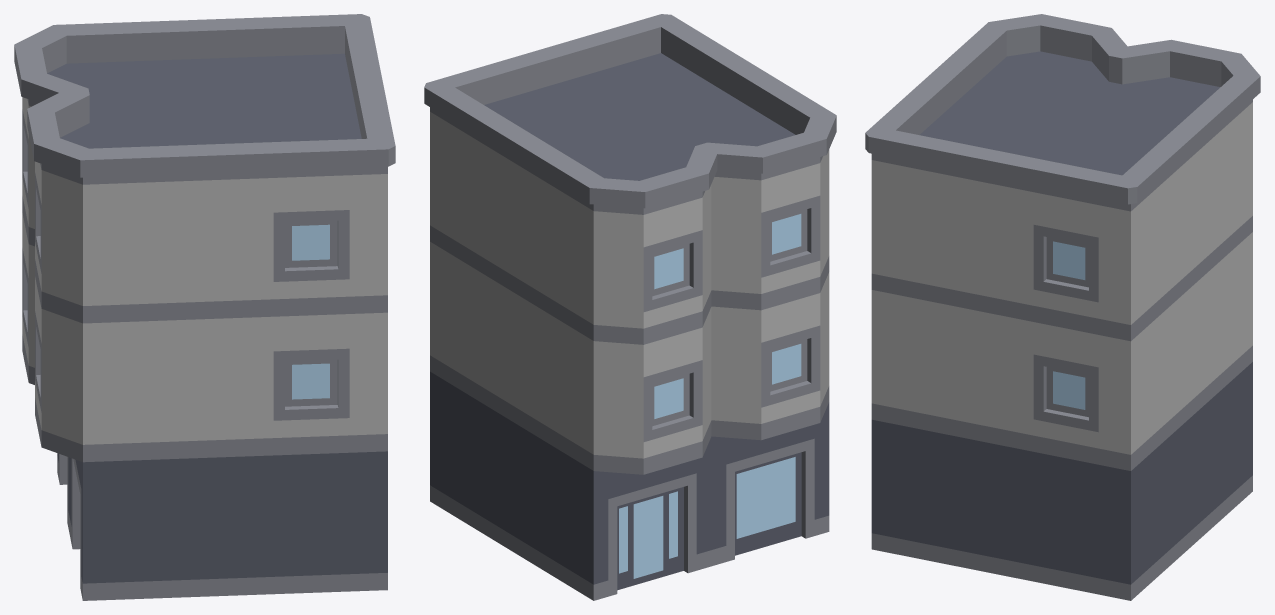
File: variant_9.fbx
3 views of the same model, side by side, from view 1: azimuth 30°, elevation 25°; view 2: azimuth 150°, elevation 25°; view 3: azimuth 270°, elevation 25° (orthographic). The views are drawn at different scales.
Visible parts, largest first — view 1: small_buildingA; view 2: small_buildingA; view 3: small_buildingA.
Part boxes in pixels (<box>): small_buildingA: <box>14,14,395,600</box>; small_buildingA: <box>424,14,836,600</box>; small_buildingA: <box>865,14,1260,600</box>.
Bounding box in the file's own units: 115 × 128 × 110.
